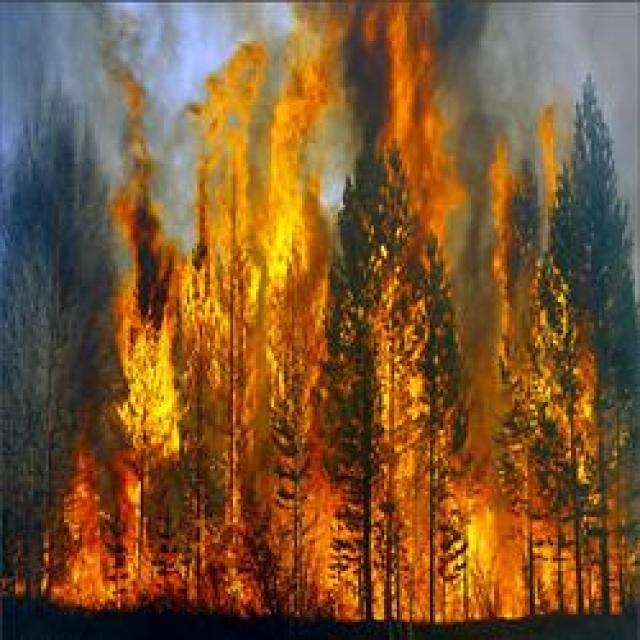Fire: (386, 15, 456, 194), (277, 88, 337, 276), (437, 498, 522, 620), (304, 459, 352, 592), (122, 326, 176, 440), (71, 462, 103, 613)
